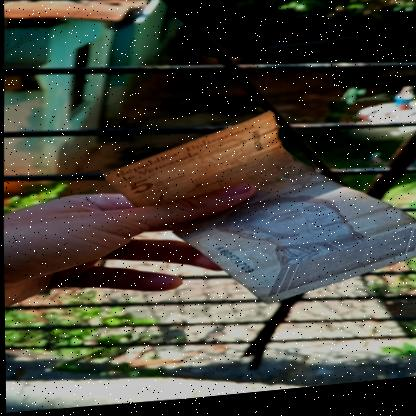five-front-vef: (98, 99, 416, 325)
